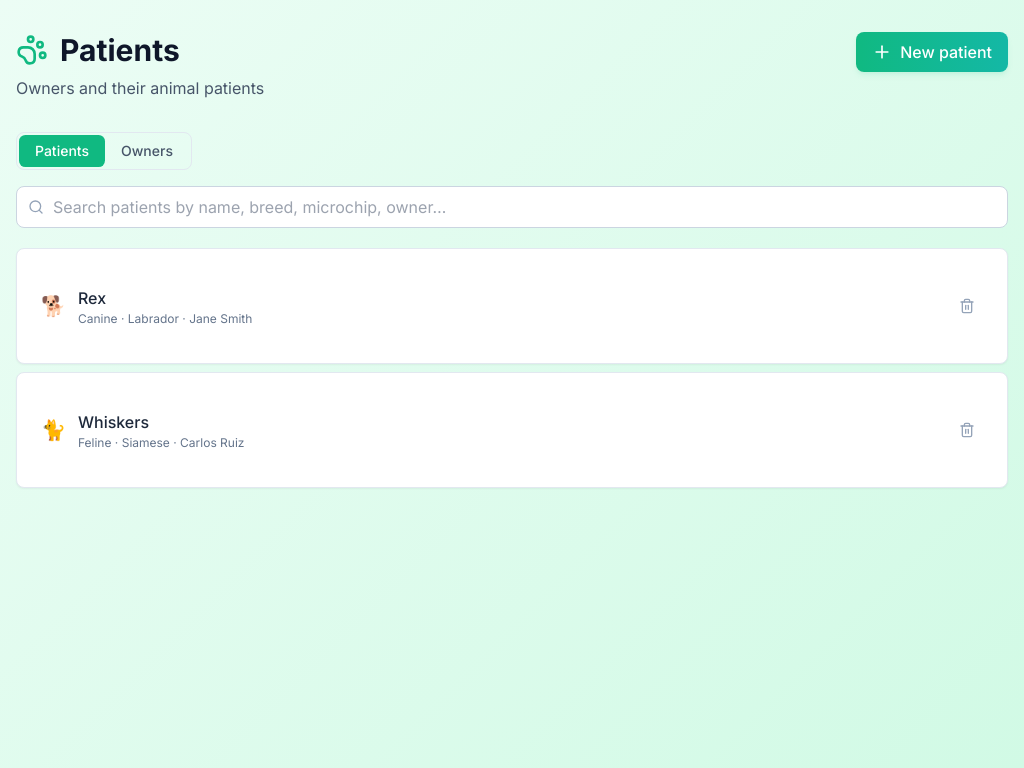
Test: PatientsPage › shows the Patients view by default, listing animals across owners
This screenshot has width=1024, height=768.
Expected: the text "Whiskers" is shown, [78,412,149,432]
Expected: the text "Rex" is shown, [78,288,106,308]
Switching to Owners still works.
Click the button "Owners".
click(147, 151)  # box [105,135,189,167]
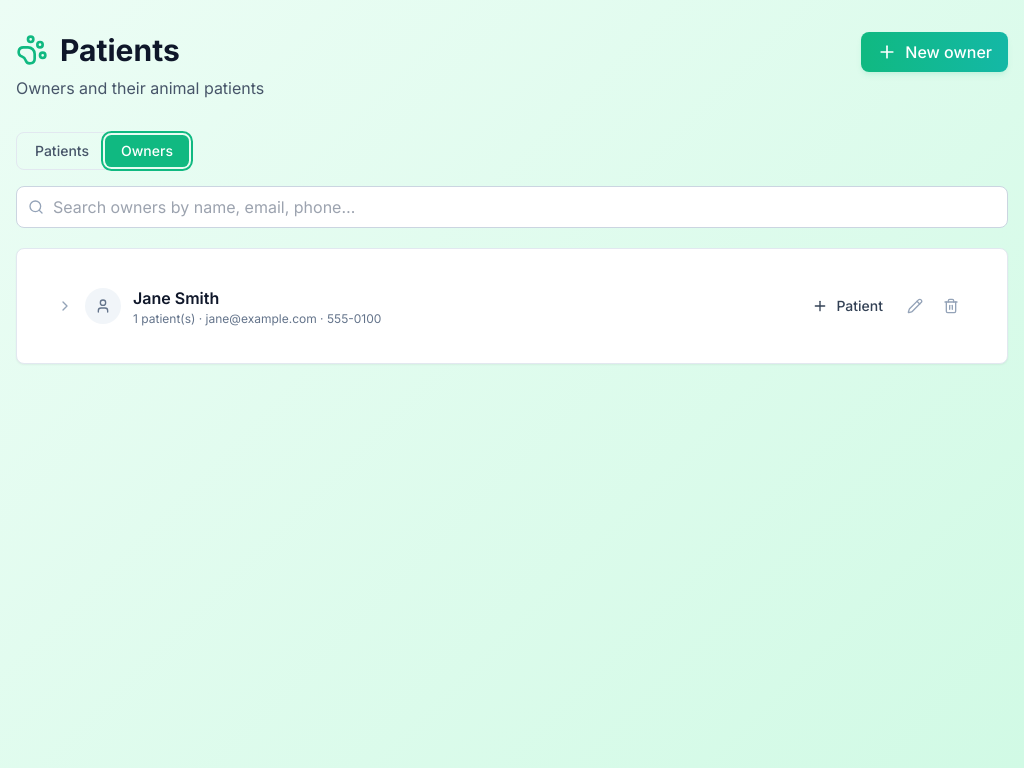
Expected: the text "Jane Smith" is shown, [133,288,219,308]
Expected: the button "New owner" is shown, [861,32,1008,72]
